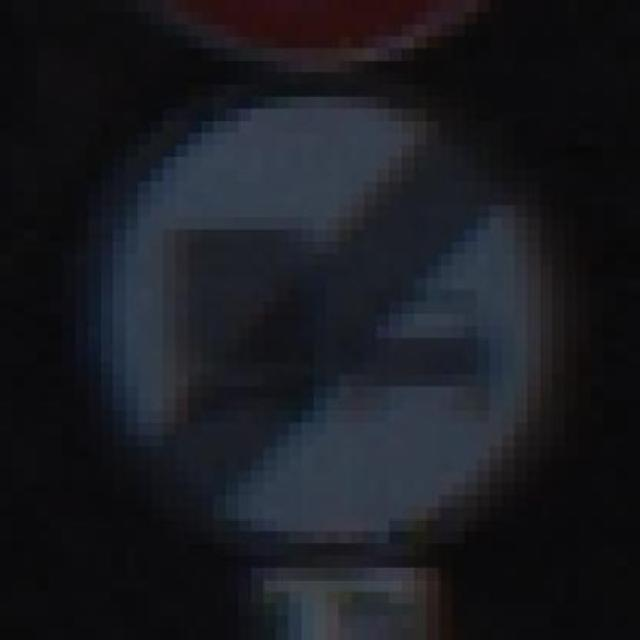Overtaking by trucks is prohibited: (38, 72, 614, 605)
